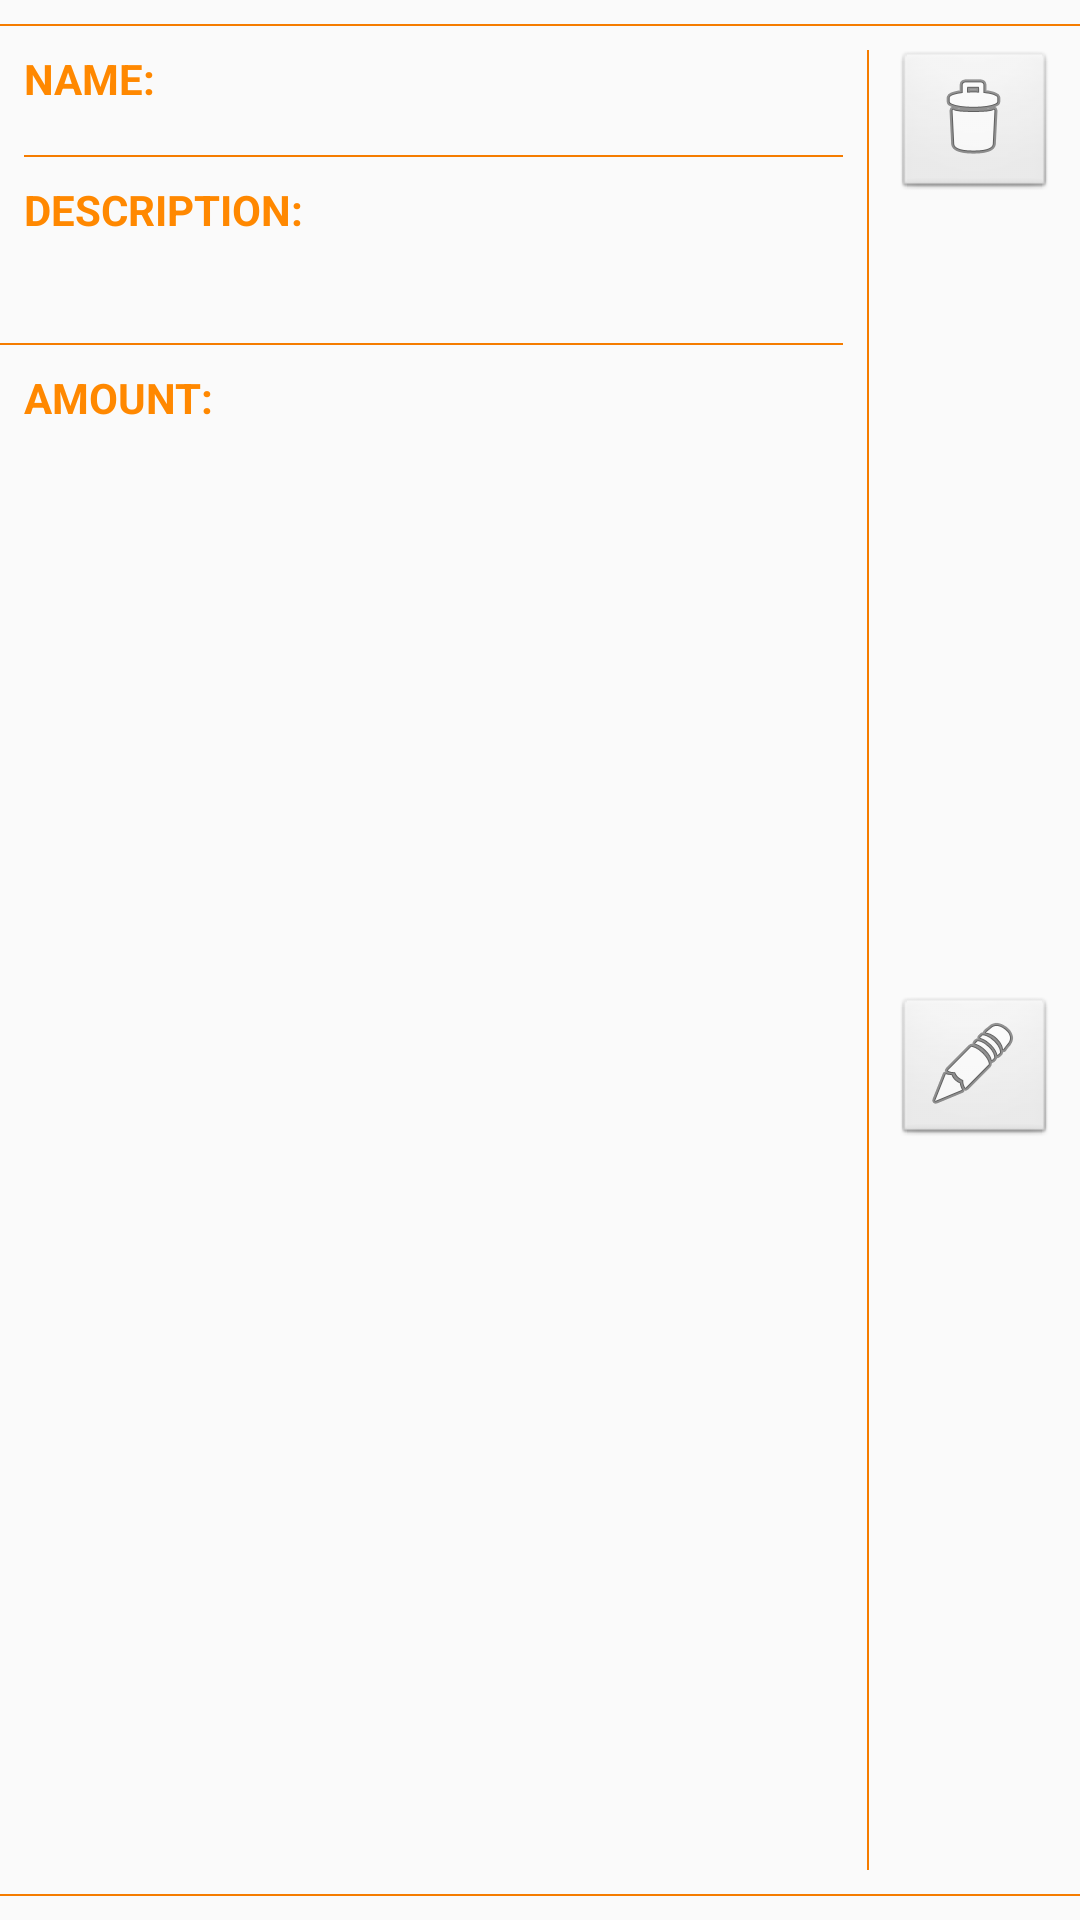

Screen size 1080×1920. Icon name, then its center in pixels as [x,y]:
delete: [974,122]
edit: [974,1066]
